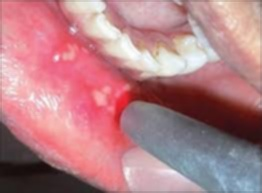Ulcer: (87, 84, 133, 117), (49, 42, 91, 62)
